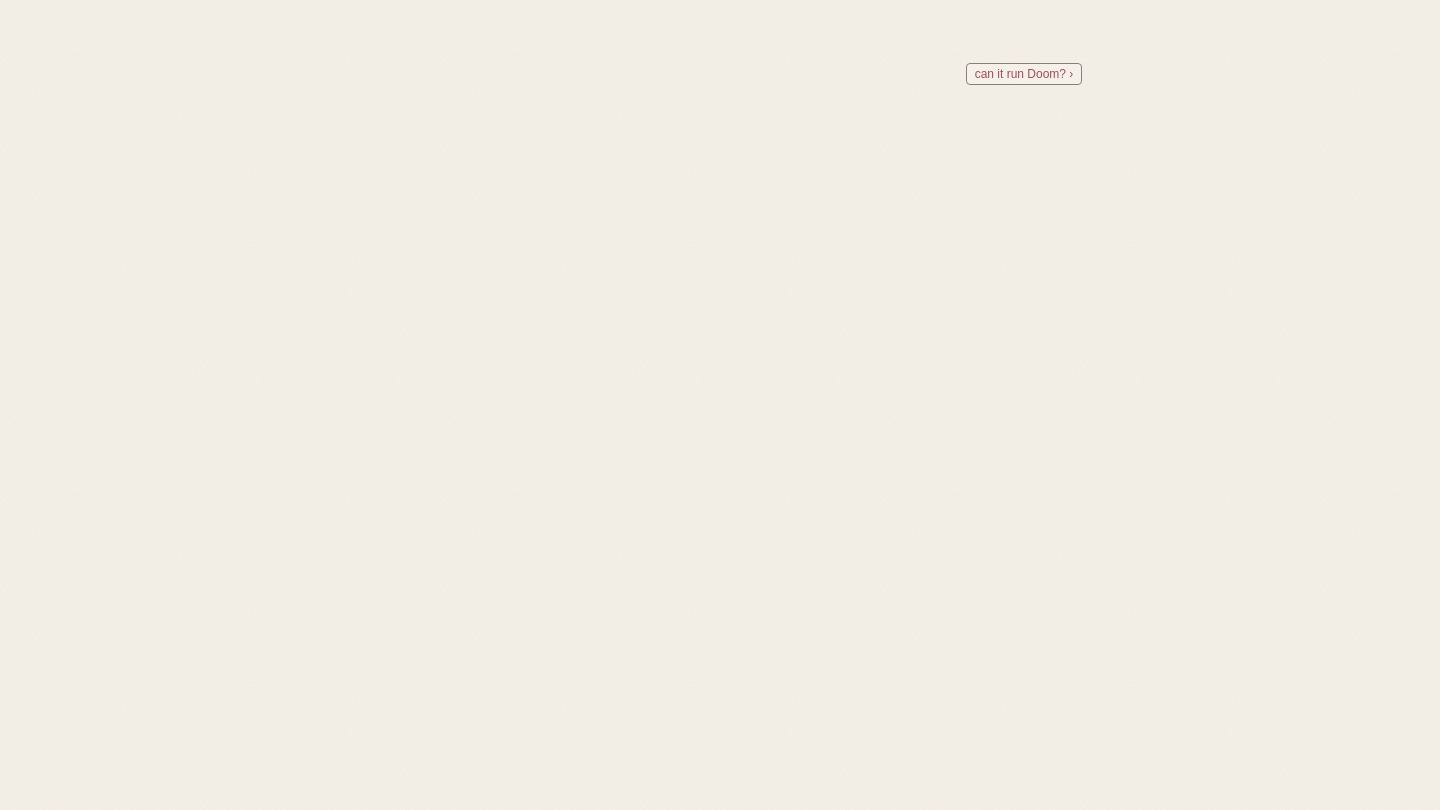
LaptopScreen terminal › runs a command from the button row
Click the button with aria-label "Can it run Doom? Open the laptop terminal": (1024, 74) [454,34,1108,88]
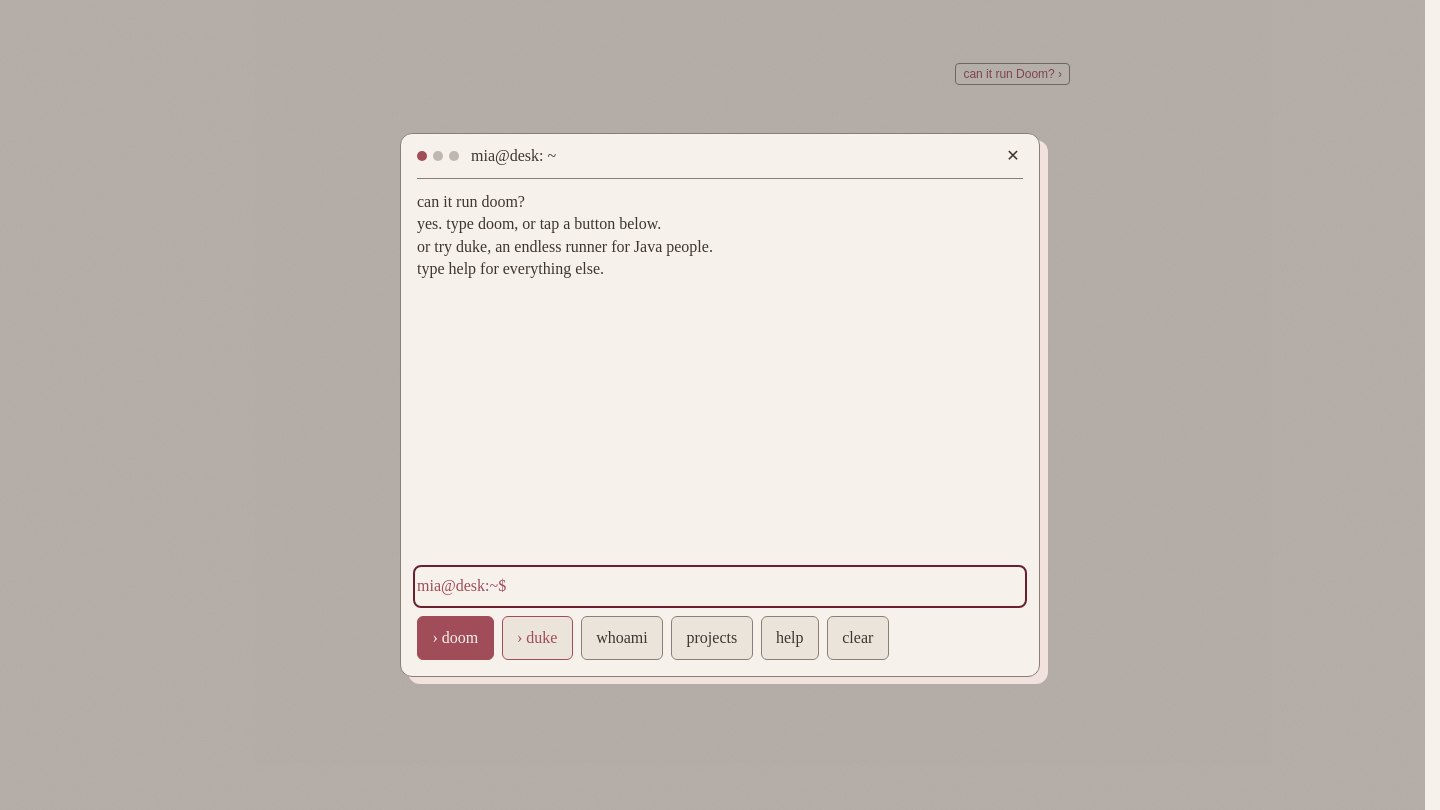
Click the button "help": (790, 638) [760,616,819,660]
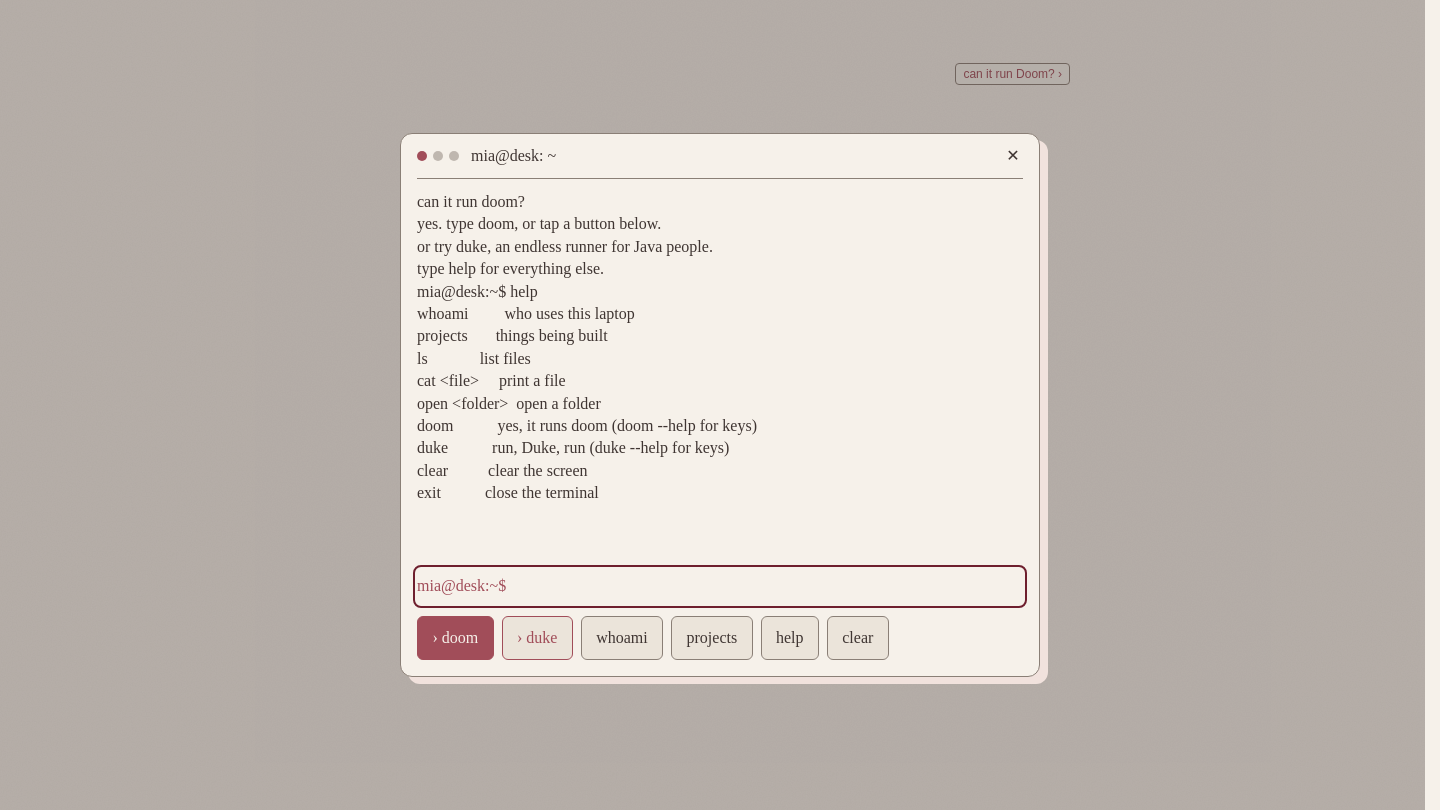
Now the list shows "yes, it runs doom", box [417,417,757,434]
